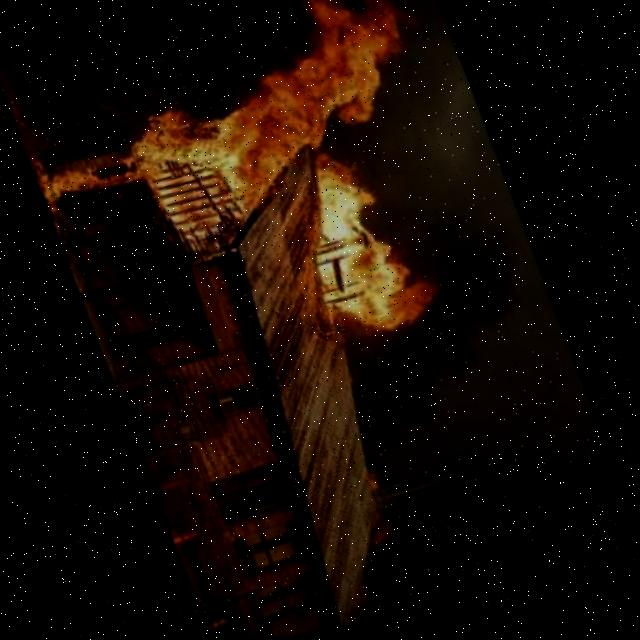fire: (3, 0, 541, 446), (362, 508, 405, 554)
